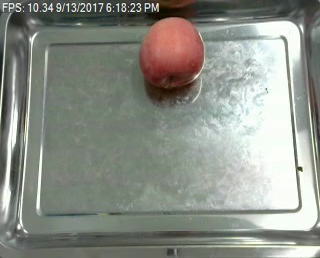Apple: (136, 15, 209, 91)
